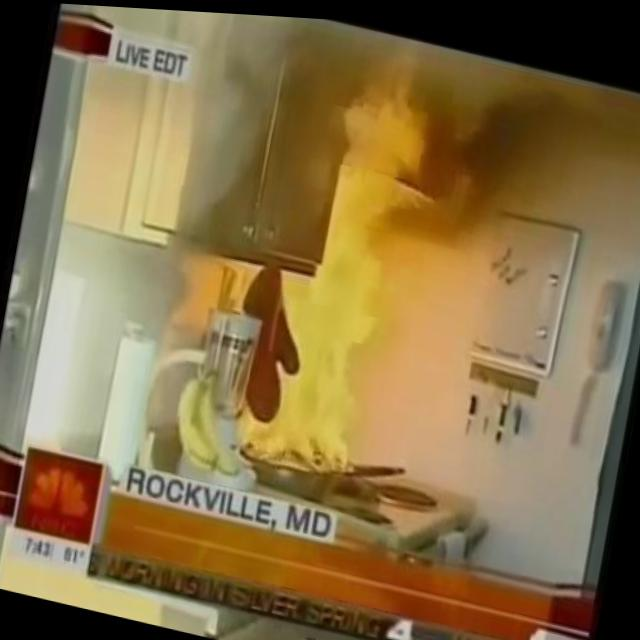fire: (196, 25, 440, 478)
